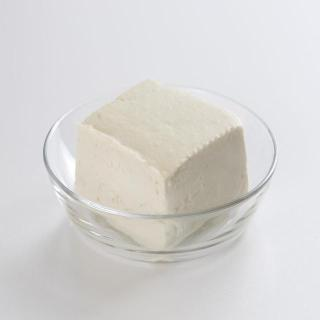Tahu: (50, 80, 268, 226)
